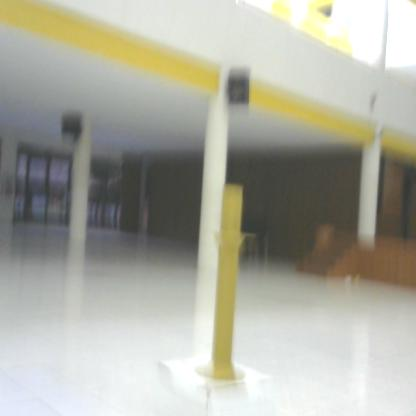pole: (195, 173, 262, 395)
